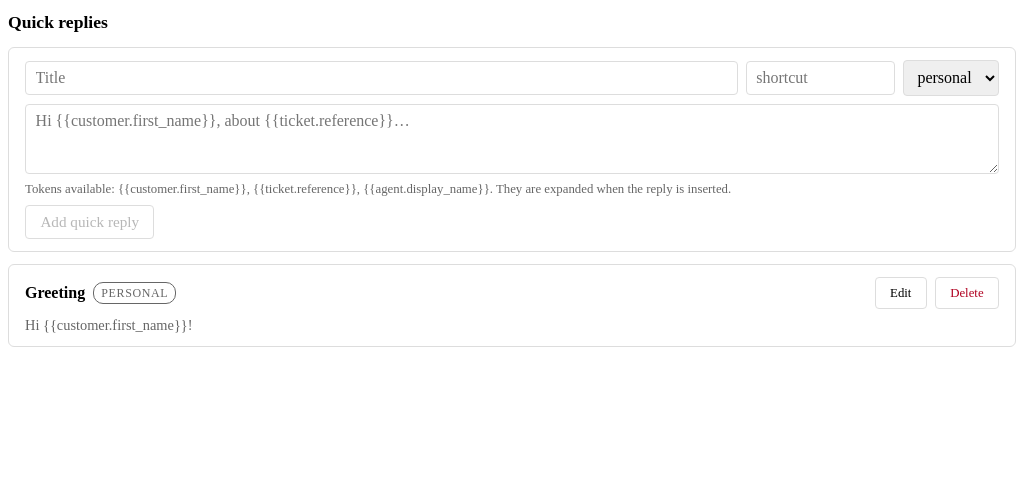
QuickRepliesPanel › promoting a personal reply to the team clears its owner
Click the button with aria-label "Edit Greeting": x=901, y=293 [875,277,927,309]
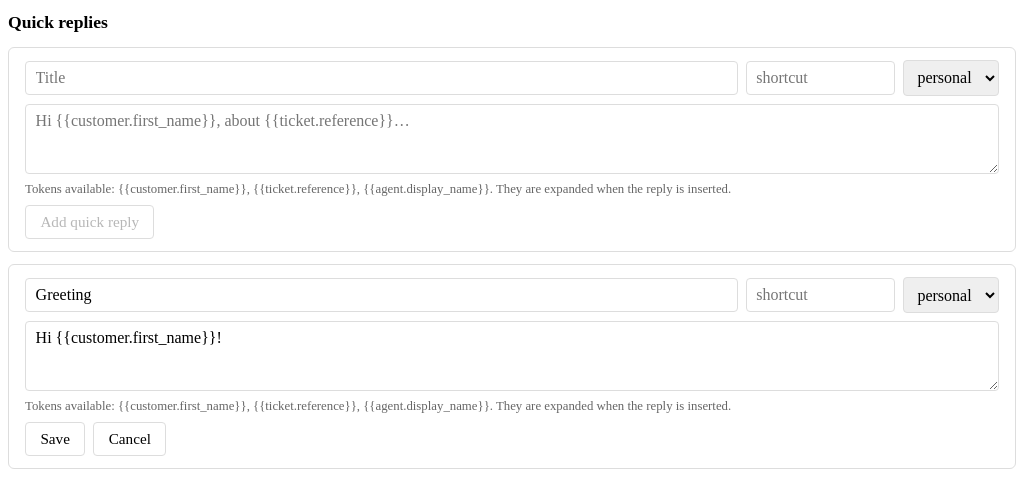
Select "team" in the dropdown named "Edit scope": x=951, y=295 [903,277,999,313]
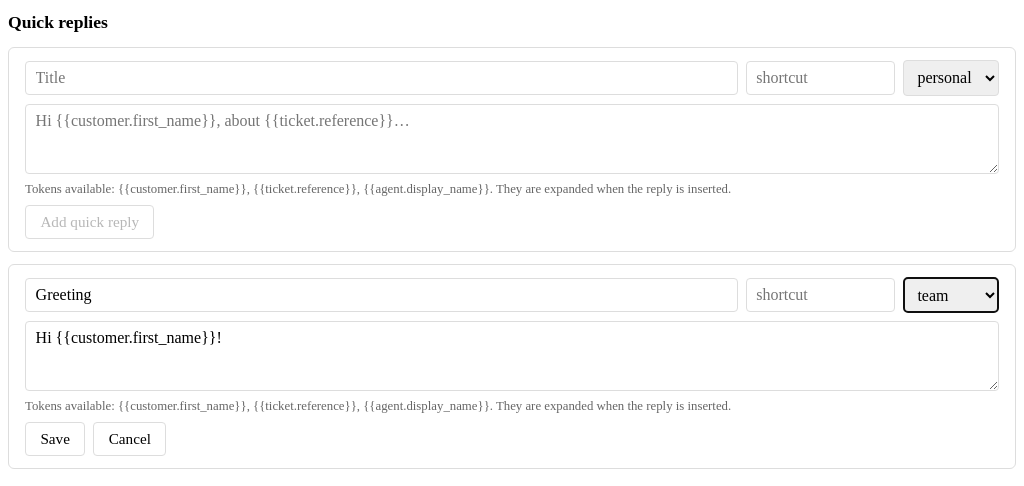
Click the button "Save": x=55, y=439 [25,422,85,456]
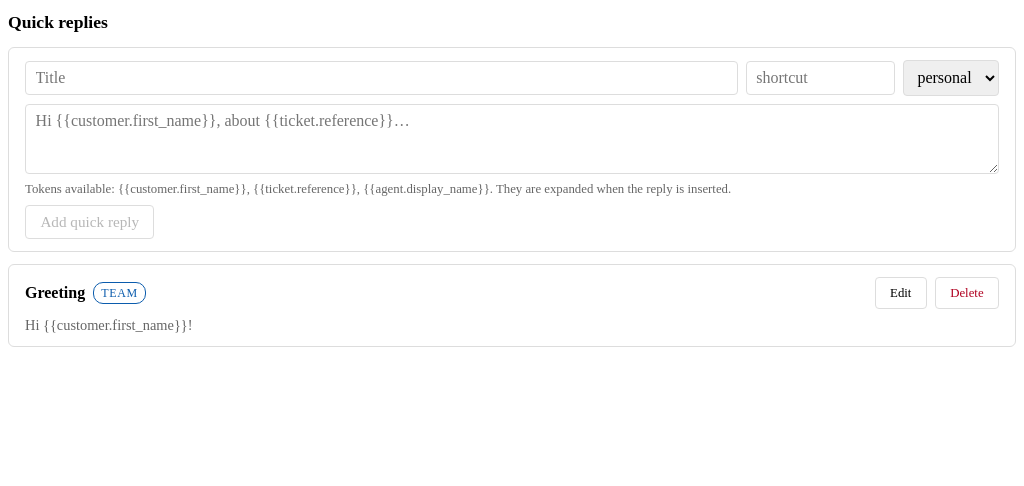
Expected: the text "team" is shown, [93,282,146,304]
